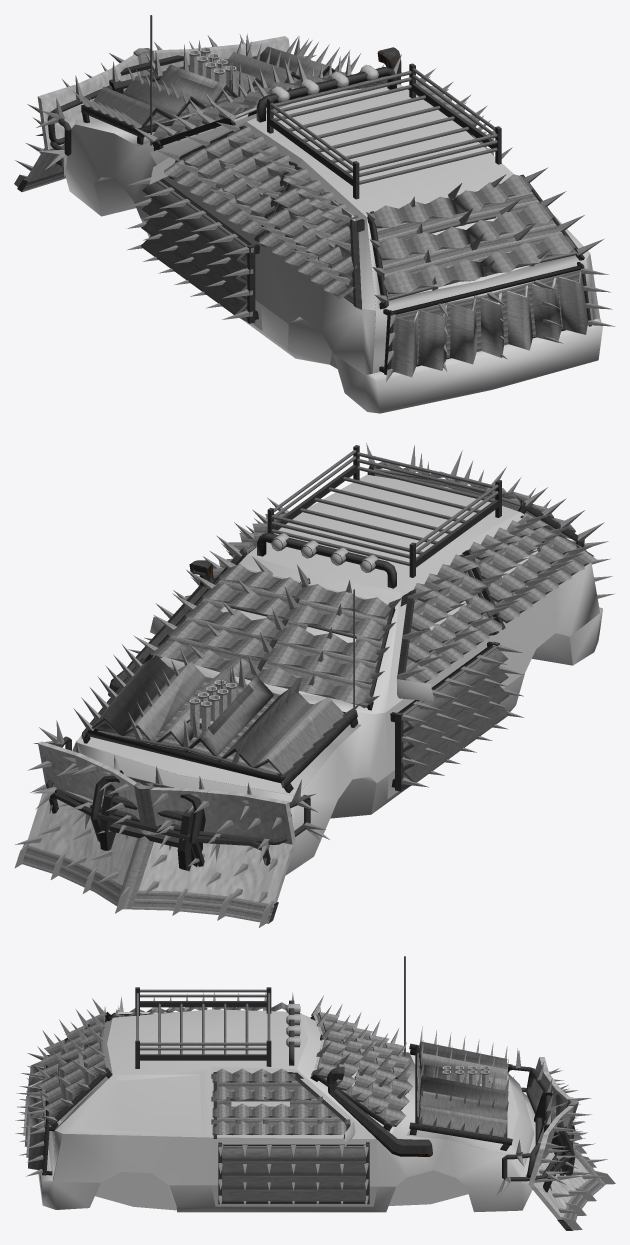
Rendered from SmallCarArmor.fbx.
3 renders of one model, top to bottom at view 1: azimuth 30°, elevation 25°; view 2: azimuth 150°, elevation 25°; view 3: azimuth 270°, elevation 25°, orthographic. The views are drawn at different scales.
Parts seen in each view (by area): view 1: Vehicles_SmallCar, trunkreinforcedrear, windowreinforcedrear, roofrack, doorfrontreinforcedleft, windowfrontreinforcedleft, windowrearreinforcedleft, plow, windowheavyrear, hoodreinforcedfront, hoodreinforcedfrontscoop, Trunk_obj (+21 smaller); view 2: Vehicles_SmallCar, plow, windowreinforcedfront, hoodreinforcedfront, plow_spiked, hoodreinforcedfrontscoop, roofrack, doorfrontreinforcedleft, windowfrontreinforcedleft, windowrearreinforcedleft, windowheavyfront, Hood_airscoop_obj (+25 smaller); view 3: Vehicles_SmallCar, doorfrontreinforcedright, hoodreinforcedfront, Window_RearRight_obj, windowreinforcedfront, plow, roofrack, windowfrontreinforcedright, Door_FrontRight_obj, hoodreinforcedfrontscoop, windowreinforcedrear, windowfrontheavyright (+19 smaller).
Boxes of the visible parts, x1=… form: Vehicles_SmallCar: x1=61, y1=84, x2=602, y2=413; trunkreinforcedrear: x1=391, y1=265, x2=587, y2=377; windowreinforcedrear: x1=372, y1=174, x2=575, y2=294; roofrack: x1=267, y1=63, x2=501, y2=199; doorfrontreinforcedleft: x1=141, y1=179, x2=251, y2=321; windowfrontreinforcedleft: x1=164, y1=126, x2=293, y2=236; windowrearreinforcedleft: x1=259, y1=168, x2=358, y2=299; plow: x1=14, y1=36, x2=289, y2=191; windowheavyrear: x1=367, y1=174, x2=584, y2=309; hoodreinforcedfront: x1=91, y1=46, x2=335, y2=135; hoodreinforcedfrontscoop: x1=94, y1=46, x2=328, y2=116; Trunk_obj: x1=367, y1=190, x2=593, y2=373; Vehicles_SmallCar: x1=72, y1=474, x2=602, y2=875; plow: x1=14, y1=741, x2=295, y2=927; windowreinforcedfront: x1=150, y1=564, x2=391, y2=707; hoodreinforcedfront: x1=87, y1=655, x2=351, y2=783; plow_spiked: x1=15, y1=744, x2=291, y2=904; hoodreinforcedfrontscoop: x1=87, y1=656, x2=332, y2=782; roofrack: x1=267, y1=445, x2=501, y2=577; doorfrontreinforcedleft: x1=398, y1=645, x2=509, y2=789; windowfrontreinforcedleft: x1=405, y1=554, x2=502, y2=682; windowrearreinforcedleft: x1=469, y1=513, x2=596, y2=623; windowheavyfront: x1=154, y1=570, x2=394, y2=709; Hood_airscoop_obj: x1=76, y1=724, x2=360, y2=795; Vehicles_SmallCar: x1=37, y1=1009, x2=535, y2=1212; doorfrontreinforcedright: x1=222, y1=1144, x2=365, y2=1203; hoodreinforcedfront: x1=415, y1=1041, x2=508, y2=1136; Window_RearRight_obj: x1=77, y1=1074, x2=201, y2=1133; windowreinforcedfront: x1=318, y1=1012, x2=413, y2=1126; plow: x1=526, y1=1057, x2=615, y2=1230; roofrack: x1=135, y1=987, x2=271, y2=1068; windowfrontreinforcedright: x1=212, y1=1068, x2=346, y2=1135; Door_FrontRight_obj: x1=211, y1=1066, x2=377, y2=1206; hoodreinforcedfrontscoop: x1=420, y1=1042, x2=507, y2=1137; windowreinforcedrear: x1=39, y1=1012, x2=106, y2=1115; windowfrontheavyright: x1=213, y1=1072, x2=350, y2=1138.
Size of the model in its own units: 246 by 193 by 550.
